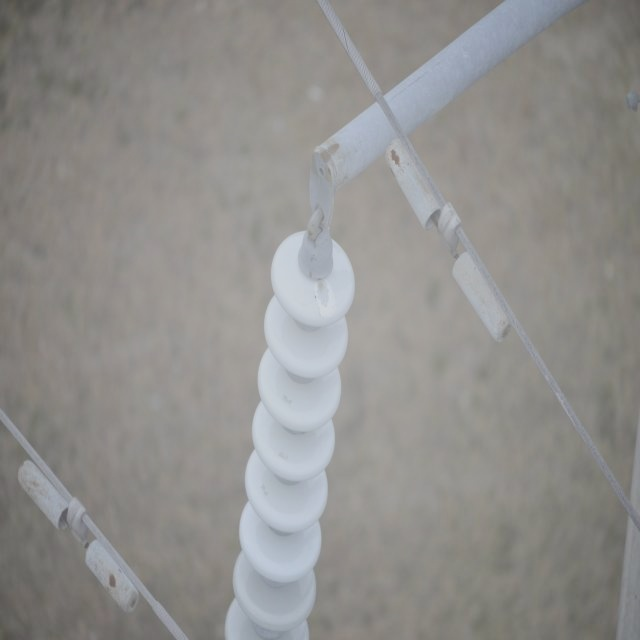insulator: (223, 228, 354, 639)
